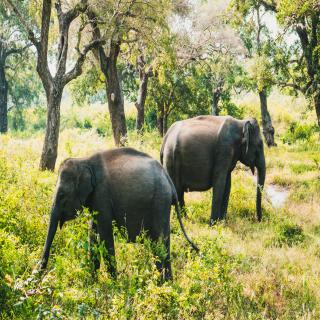Elephant: (31, 144, 184, 294), (156, 113, 267, 225)
